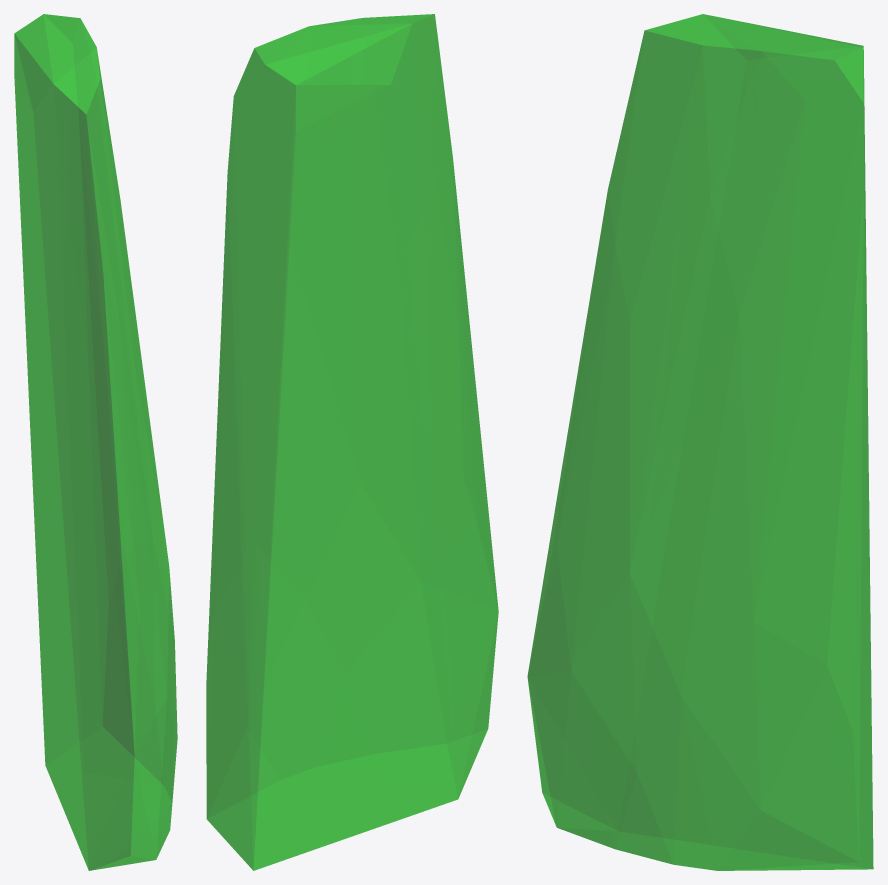
The picture shows the model from 3 angles, left to right: view 1: azimuth 30°, elevation 25°; view 2: azimuth 150°, elevation 25°; view 3: azimuth 270°, elevation 25°; orthographic projection. The views are drawn at different scales.
Visible parts, largest first — view 1: Shape_IndexedFaceSet.034_Shape_IndexedFaceSet.1999; view 2: Shape_IndexedFaceSet.034_Shape_IndexedFaceSet.1999; view 3: Shape_IndexedFaceSet.034_Shape_IndexedFaceSet.1999.
Boxes of the visible parts, left/top/right/bottom form: Shape_IndexedFaceSet.034_Shape_IndexedFaceSet.1999: left=14, top=14, right=177, bottom=870; Shape_IndexedFaceSet.034_Shape_IndexedFaceSet.1999: left=206, top=14, right=498, bottom=870; Shape_IndexedFaceSet.034_Shape_IndexedFaceSet.1999: left=527, top=14, right=873, bottom=870.
Size of the model in its own units: 0.1205 by 0.6575 by 0.2517.
